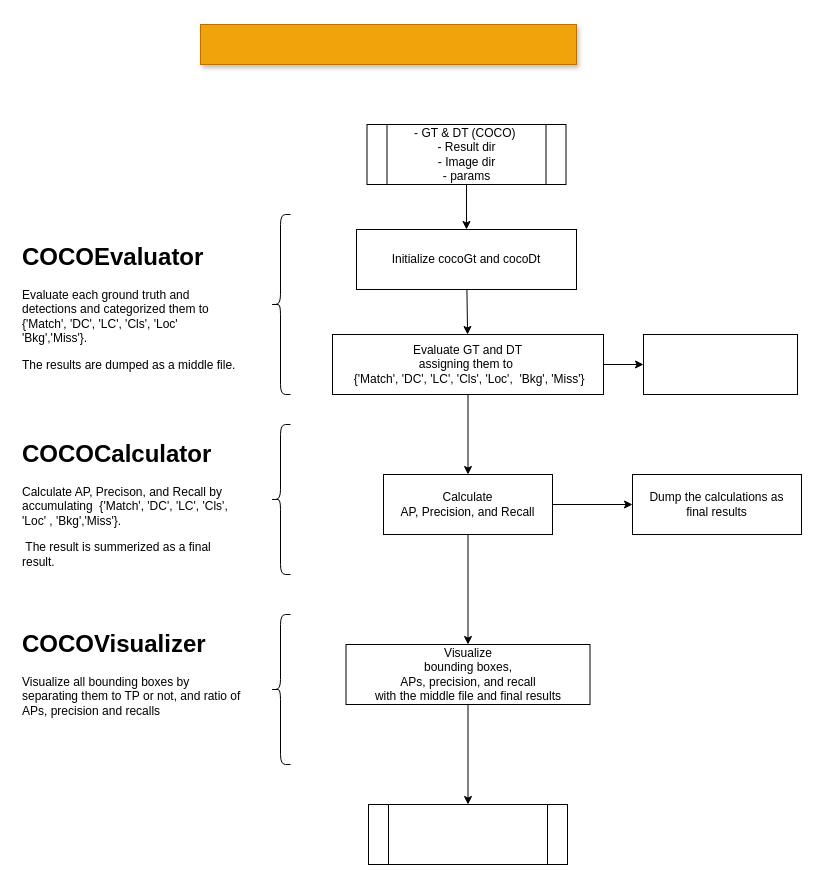
Some shapes in this 819 by 882 pixel diagram are drawn without their labels. Each missing label, with the centre of its shape:
"COCOAnalizer" goes at (x=389, y=46).
"Done" goes at (x=468, y=834).
"Dump the evaluation as a middle file" goes at (x=720, y=364).
